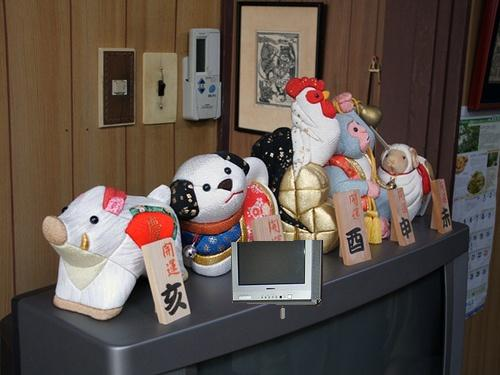tampered: (231, 241, 323, 319)
